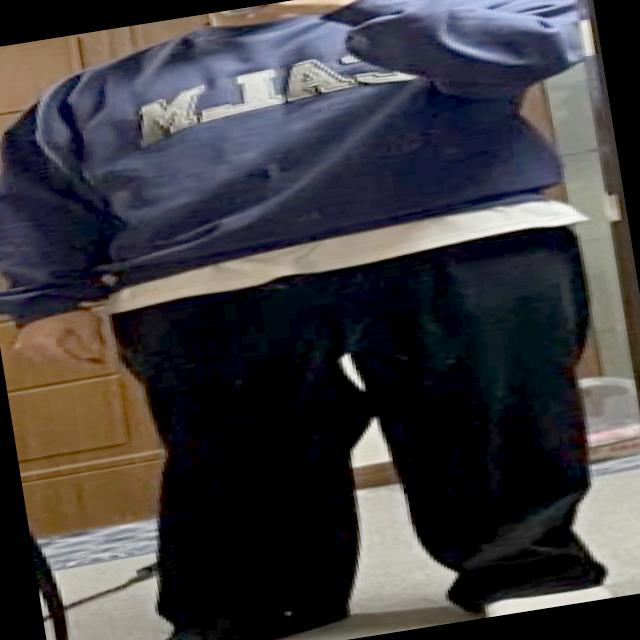mtm: (0, 0, 601, 325)
slacks: (99, 219, 633, 640)
